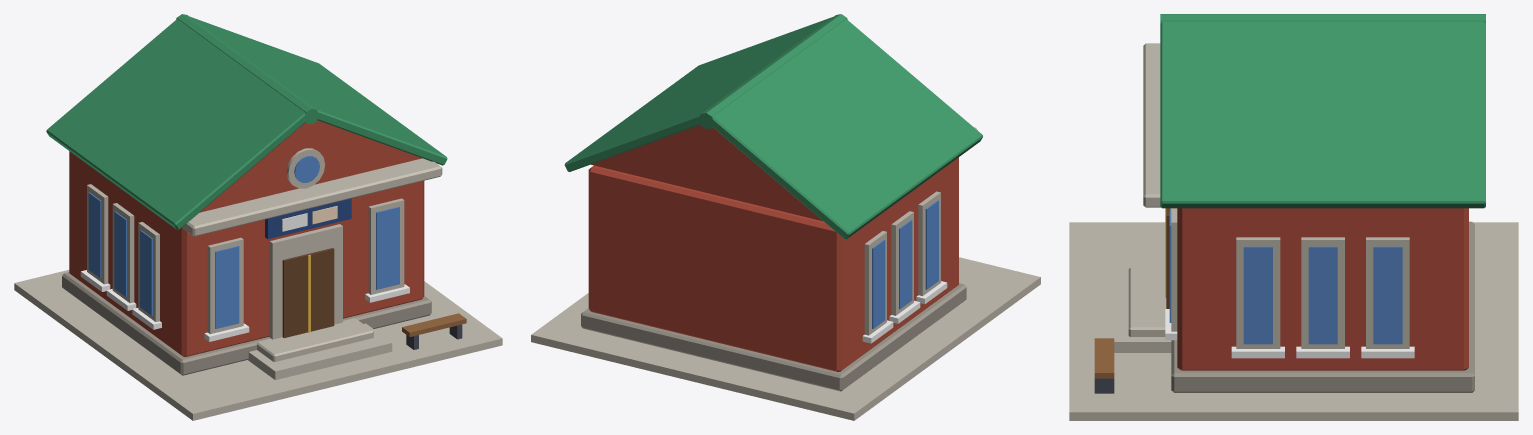
File: library.glb
The picture shows the model from 3 angles, left to right: view 1: azimuth 30°, elevation 25°; view 2: azimuth 150°, elevation 25°; view 3: azimuth 270°, elevation 25°; orthographic projection. The views are drawn at different scales.
Parts seen in each view (by area): view 1: model; view 2: model; view 3: model.
Boxes of the visible parts, bbox=[...] form: model: bbox=[14, 14, 502, 420]; model: bbox=[531, 14, 1040, 420]; model: bbox=[1069, 14, 1518, 420].
Bounding box in the file's own units: 1.85 × 1.42 × 1.85.
1 material, 1 textured.
